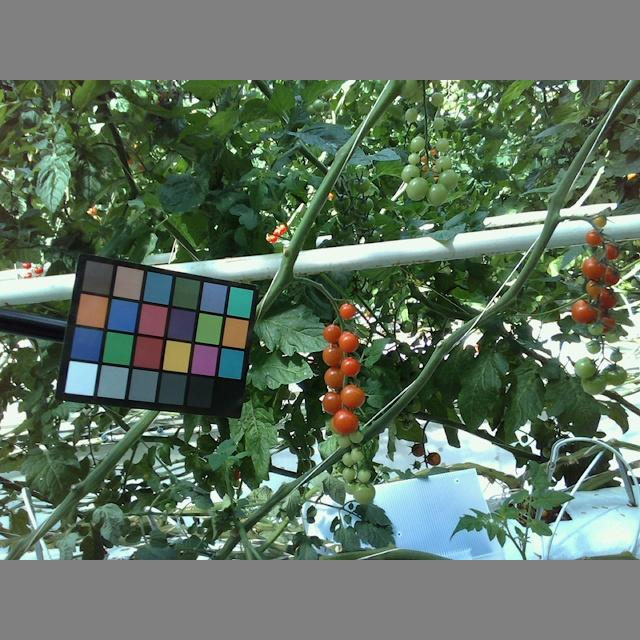green: (600, 363, 627, 384), (581, 371, 605, 394), (406, 177, 428, 202), (351, 481, 376, 502), (425, 183, 447, 206), (435, 171, 459, 192), (573, 357, 597, 377), (400, 164, 421, 184), (434, 154, 451, 174), (587, 320, 604, 335), (355, 466, 370, 482), (409, 135, 425, 150), (349, 447, 363, 464), (586, 340, 603, 354), (435, 137, 449, 152), (429, 91, 443, 106), (343, 465, 356, 481), (407, 152, 421, 166), (407, 109, 421, 123), (609, 348, 622, 363), (432, 117, 445, 129)
pink: (341, 383, 366, 409), (332, 409, 359, 433), (581, 254, 604, 281), (570, 300, 596, 322), (321, 392, 344, 416), (321, 345, 345, 366), (337, 330, 359, 352), (325, 365, 346, 388), (340, 356, 361, 377), (322, 323, 342, 343), (586, 226, 605, 246), (339, 301, 356, 319), (585, 278, 601, 297)
